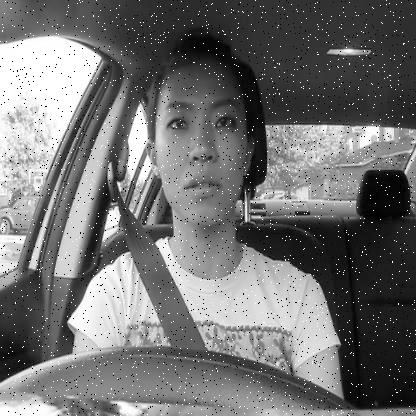seatbelt: (86, 13, 284, 366)
